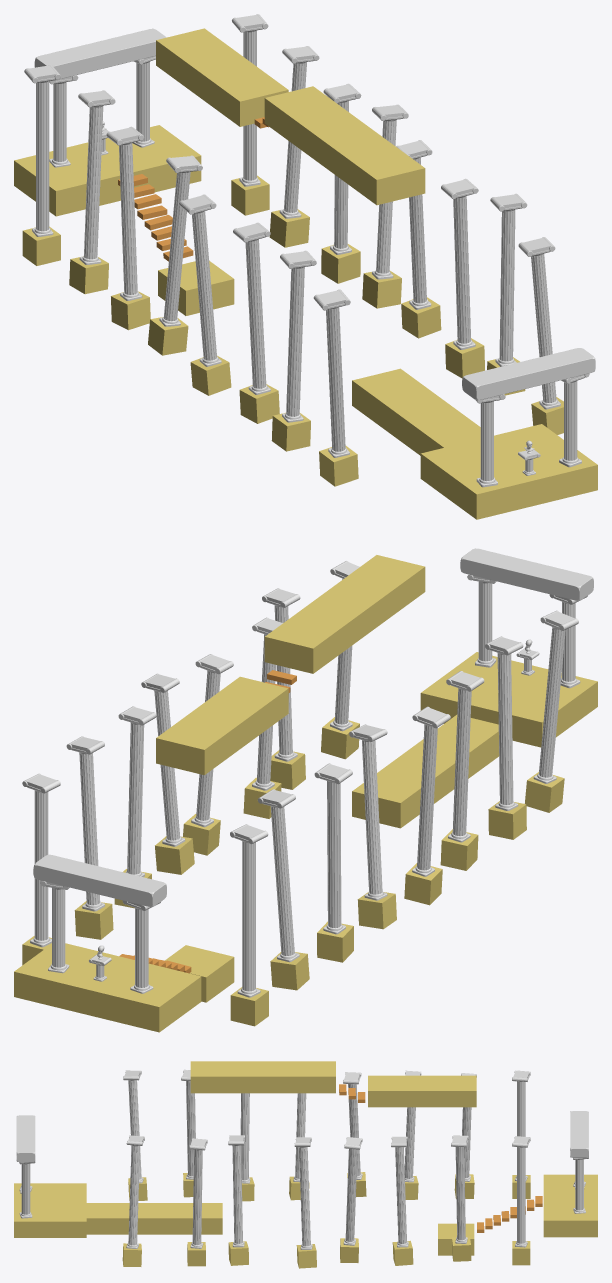
The model's file is Ending 2.fbx.
3 renders of one model, top to bottom at view 1: azimuth 30°, elevation 25°; view 2: azimuth 150°, elevation 25°; view 3: azimuth 270°, elevation 25°, orthographic. The views are drawn at different scales.
Visible parts, largest first — view 1: Cube.006, Cube.011, Cube.001, Cube.012, Cube.014, Cube, Cube.003, Cube.018, Cube.002, Cube.010, Cube.005; view 2: Cube.006, Cube.011, Cube, Cube.012, Cube.014, Cube.001, Cube.003, Cube.002, Cube.018, Cube.010; view 3: Cube.011, Cube.006, Cube.012, Cube.003, Cube.001, Cube.014, Cube, Cube.018, Cube.002, Cube.010, Cube.005.
Boxes of the visible parts, x1,y1,x2,y2 form: Cube.006: (22, 64, 358, 486); Cube.011: (231, 14, 563, 434); Cube.001: (420, 424, 597, 519); Cube.012: (264, 86, 425, 205); Cube.014: (156, 28, 288, 126); Cube: (14, 125, 201, 216); Cube.003: (352, 368, 480, 455); Cube.018: (462, 348, 595, 487); Cube.002: (34, 28, 166, 167); Cube.010: (158, 261, 234, 315); Cube.005: (118, 174, 193, 261); Cube.006: (230, 610, 578, 1026); Cube.011: (22, 561, 359, 965); Cube: (14, 943, 201, 1032); Cube.012: (264, 555, 425, 673); Cube.014: (156, 676, 288, 775); Cube.001: (420, 652, 597, 747); Cube.003: (352, 714, 499, 828); Cube.002: (33, 854, 166, 993); Cube.018: (460, 548, 593, 688); Cube.010: (165, 945, 234, 1002); Cube.011: (122, 1135, 530, 1268); Cube.006: (123, 1069, 530, 1201); Cube.012: (190, 1061, 335, 1093); Cube.003: (86, 1203, 222, 1234); Cube.001: (14, 1183, 86, 1237); Cube.014: (368, 1075, 476, 1107); Cube: (543, 1174, 597, 1237); Cube.018: (16, 1115, 35, 1218); Cube.002: (570, 1111, 588, 1213); Cube.010: (438, 1223, 474, 1255); Cube.005: (477, 1196, 542, 1232).
Bounding box in the file's own units: 1073 × 1087 × 3219.
